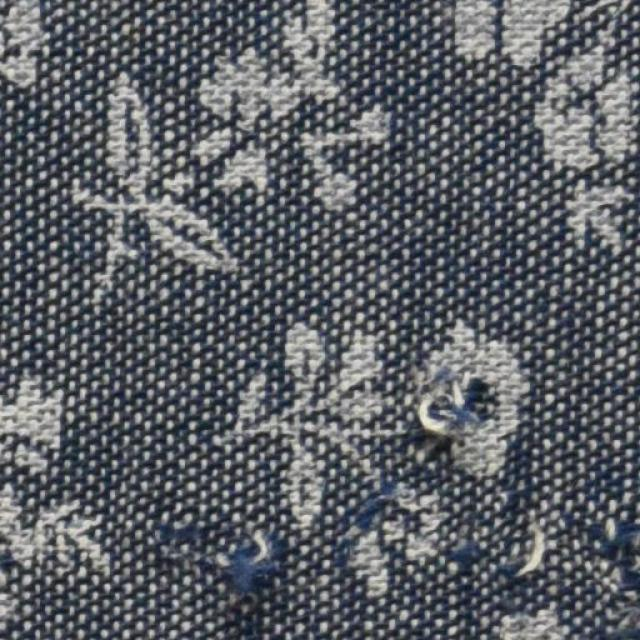Snag: (399, 365, 504, 463), (205, 518, 286, 608), (356, 475, 432, 537), (504, 527, 549, 589), (606, 514, 639, 588)
